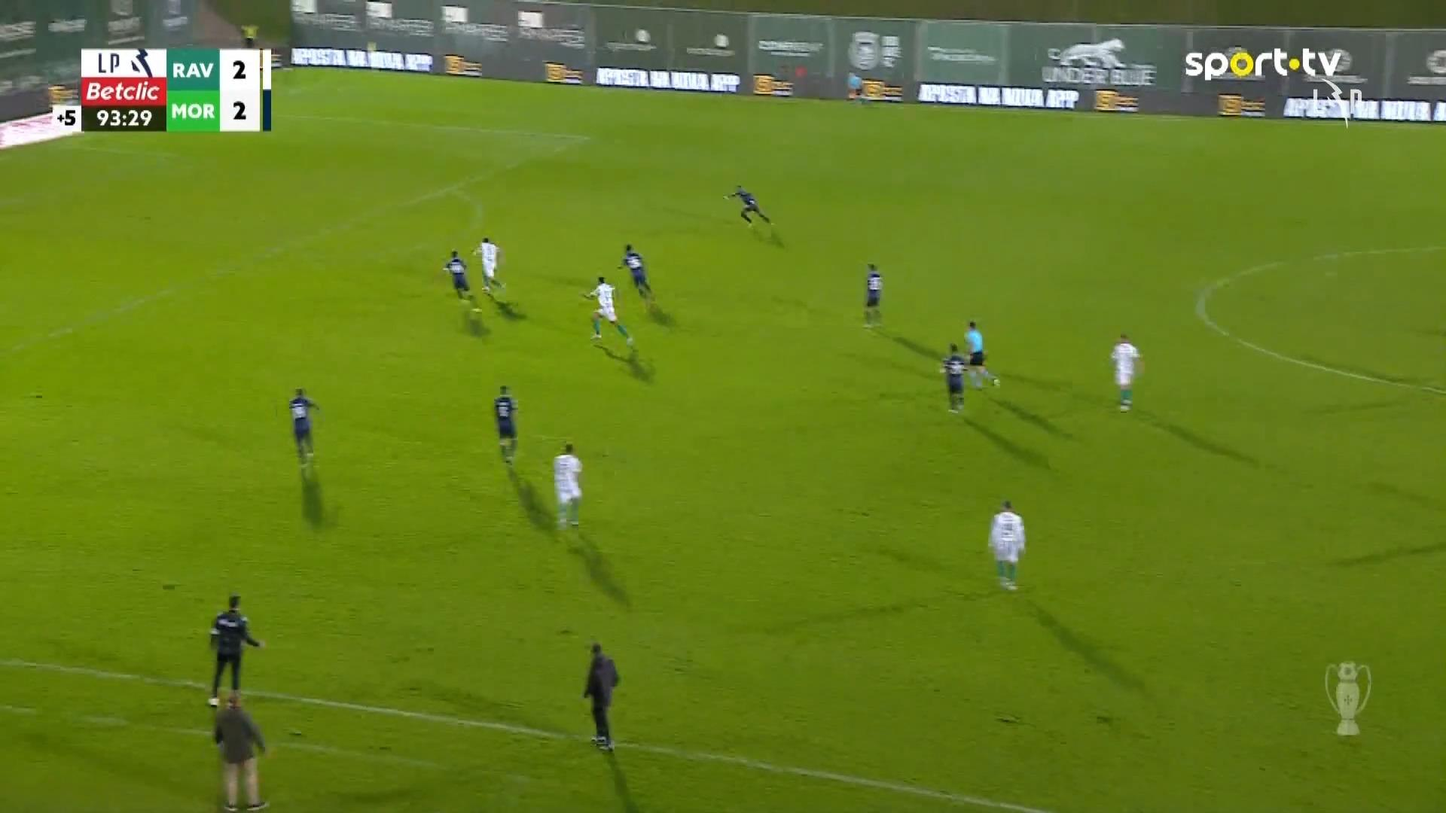ball: (1288, 57, 1300, 70), (207, 696, 219, 706), (471, 307, 481, 314)
player: (581, 275, 633, 347), (987, 499, 1026, 591), (552, 442, 583, 528), (1109, 332, 1142, 412), (617, 242, 655, 309), (288, 386, 319, 463), (723, 184, 773, 227), (939, 342, 968, 413), (471, 236, 506, 293), (493, 384, 518, 463), (442, 248, 473, 301), (862, 263, 883, 328)
referee: (212, 688, 269, 811), (206, 593, 264, 706), (582, 641, 619, 751), (962, 319, 1000, 390), (847, 71, 867, 107)
